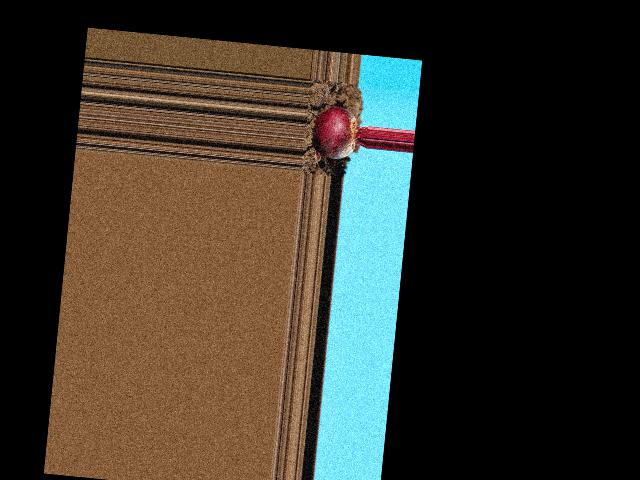beet: (310, 105, 370, 162)
